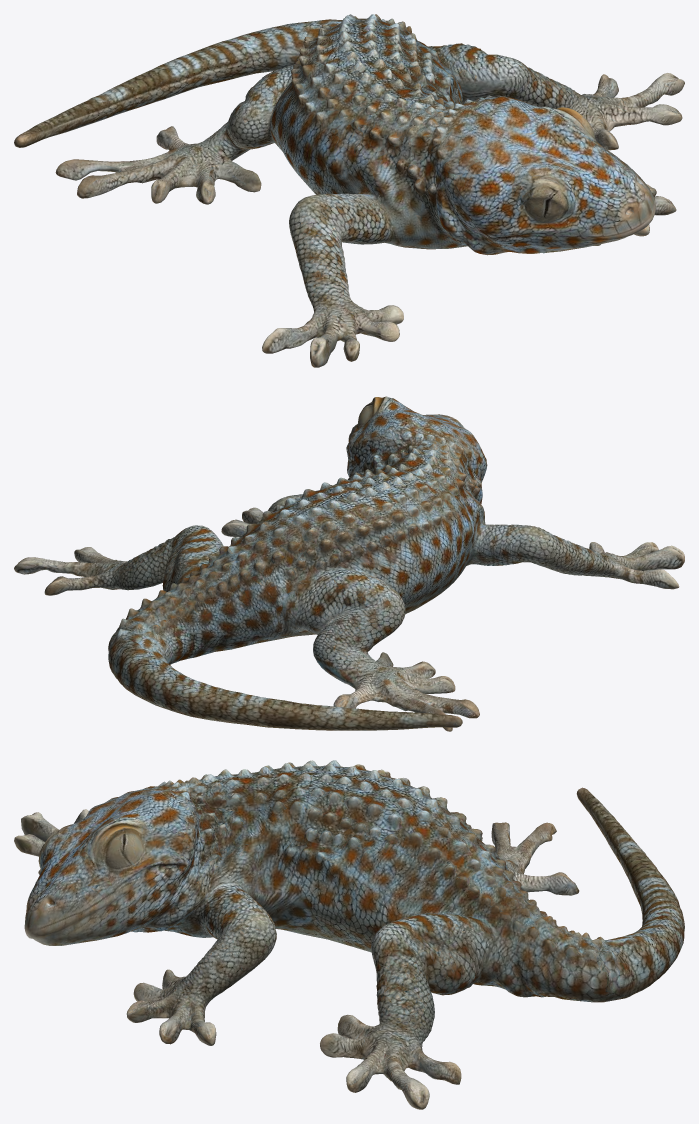
Rendered from gecko.glb.
3 views of the same model, one above another, from view 1: azimuth 30°, elevation 25°; view 2: azimuth 150°, elevation 25°; view 3: azimuth 270°, elevation 25° (orthographic). The views are drawn at different scales.
Visible parts, largest first — view 1: Mesh_0; view 2: Mesh_0; view 3: Mesh_0.
Boxes of the visible parts, x1,y1,x2,y2 form: Mesh_0: [14, 14, 684, 367]; Mesh_0: [14, 396, 684, 731]; Mesh_0: [14, 760, 684, 1109].
Size of the model in its own units: 1.91 by 0.5067 by 1.87.
1 material, 1 textured.
